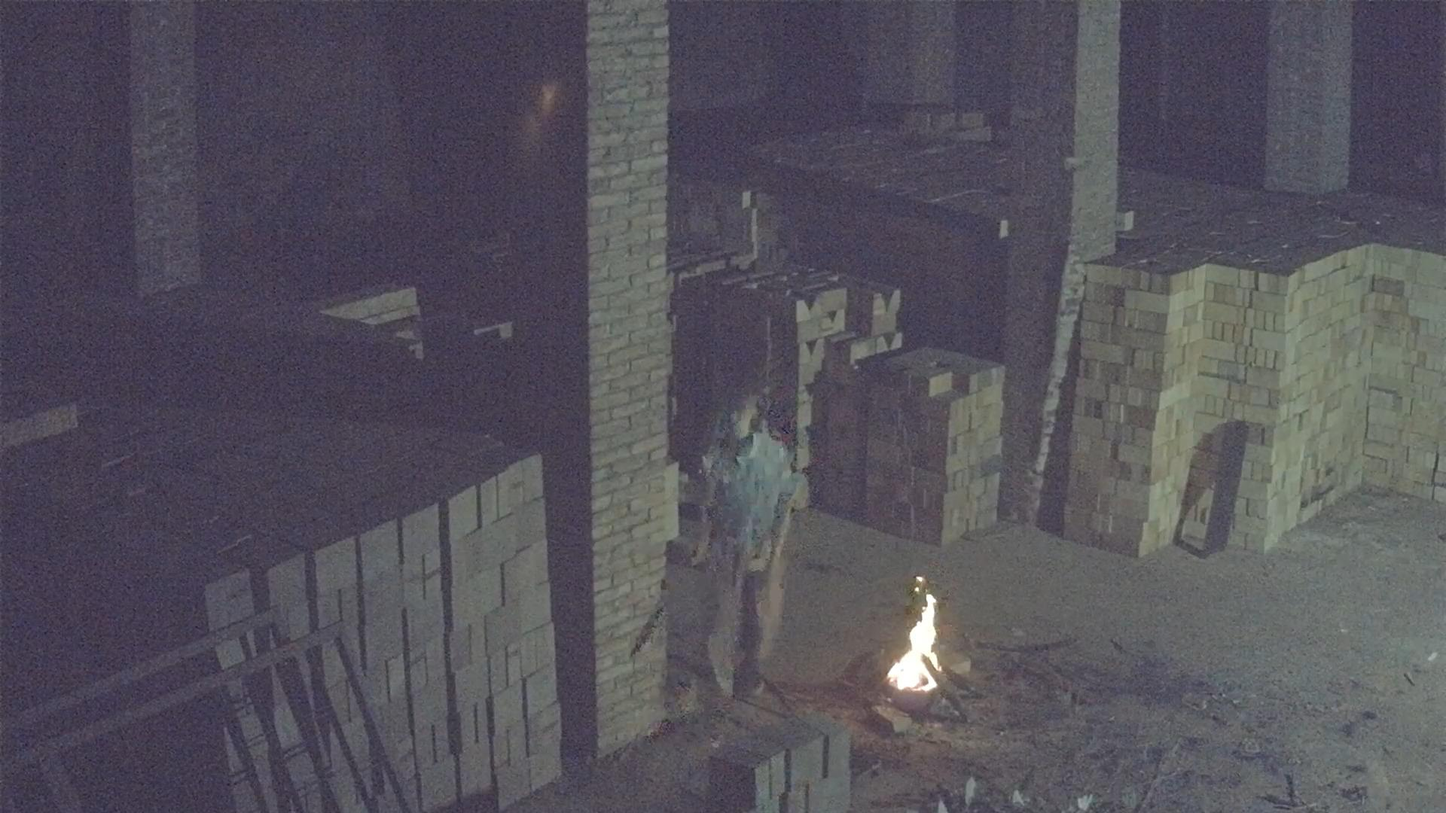fire: (886, 595, 942, 693)
